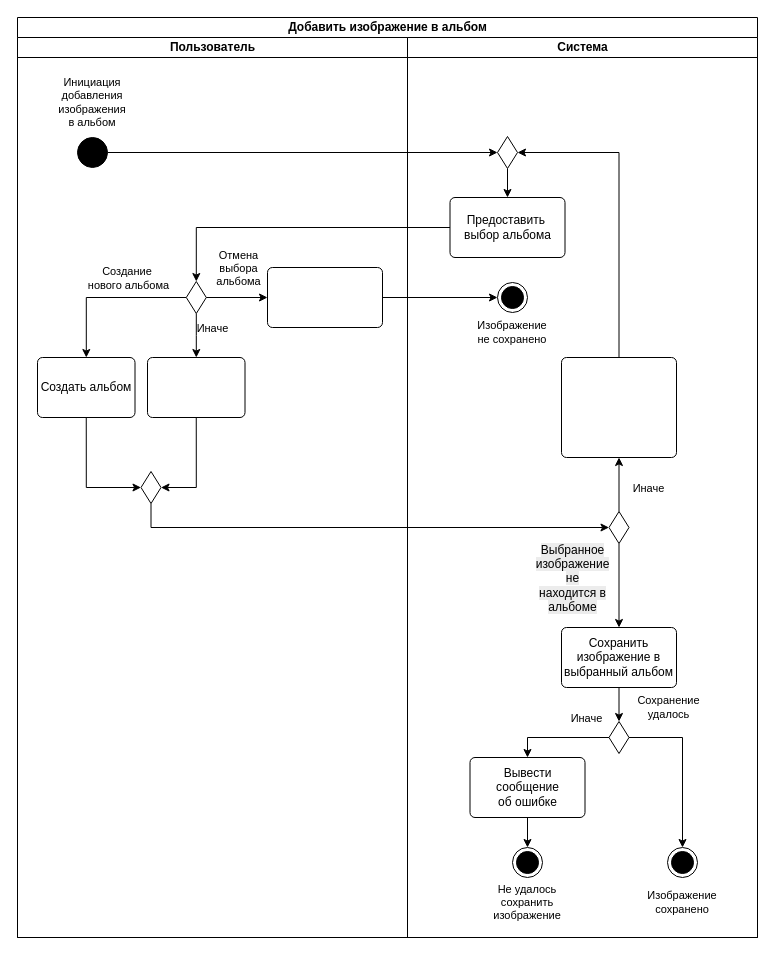
Image size: 775x955. Some labels were removed from this diagram. Each missing label, with the centre of its shape:
Выбрать альбом: (195,387)
Закрыть выбор альбома: (324,297)
Отобразить сообщение "Это изображение уже находиться в выбранном альбоме": (618,407)
